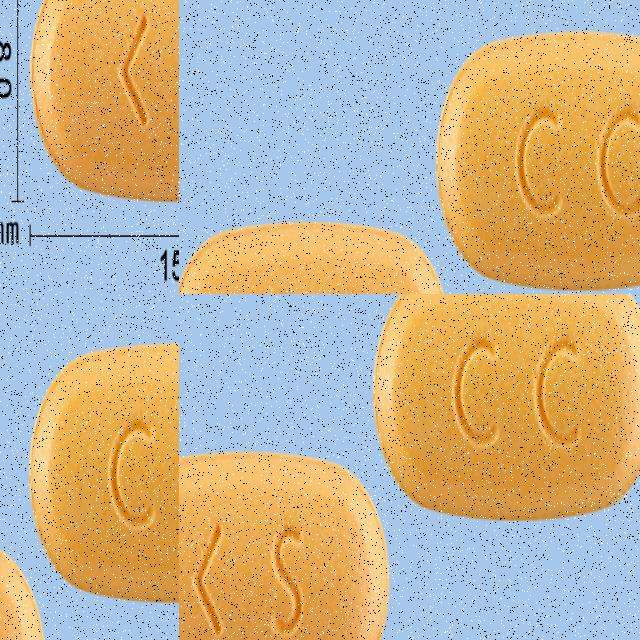Amoclan - Myungmoon: (64, 37, 179, 294)
Azabio: (53, 346, 179, 640)
Bearcin - 500mg: (179, 29, 418, 294), (449, 27, 640, 294)
Clribio: (373, 294, 640, 515), (179, 453, 391, 640)
